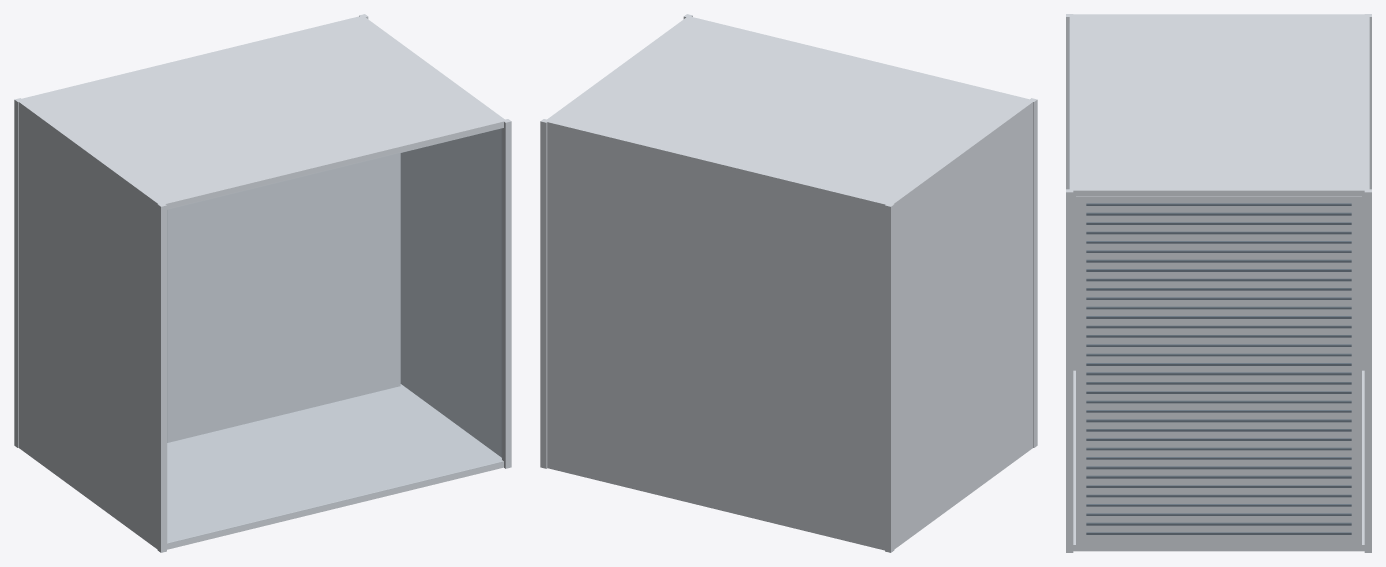
The model's file is retail-lian-li-o11-air-mini-white.glb.
The picture shows the model from 3 angles, left to right: view 1: azimuth 30°, elevation 25°; view 2: azimuth 150°, elevation 25°; view 3: azimuth 270°, elevation 25°; orthographic projection. The views are drawn at different scales.
Parts seen in each view (by area): view 1: Side panel, Motherboard tray, Top, Rear, Base, Front panel, Frame rail (×3), Back; view 2: Back, Rear, Top, Frame rail (×3); view 3: Front panel, Top, Mesh opening (×36), Frame rail (×4), Base, Rear, Back.
Part boxes in pixels (x1,y1,x2,y2): Side panel: (167,128,501,542); Motherboard tray: (167,153,400,442); Top: (23,16,506,209); Rear: (17,99,161,549); Base: (167,384,503,549); Front panel: (400,128,501,457); Frame rail (×3): (14,98,511,552); Back: (18,15,362,100); Back: (545,121,888,550); Rear: (890,99,1033,549); Top: (545,16,1029,204); Frame rail (×3): (540,98,1037,552); Front panel: (1076,196,1361,546); Top: (1069,15,1368,197); Mesh opening (×36): (1086,203,1351,534); Frame rail (×4): (1066,14,1371,552); Base: (1073,370,1364,551); Rear: (1069,14,1368,370); Back: (1366,15,1369,190).
Size of the model in its own units: 0.407 by 0.384 by 0.295.
